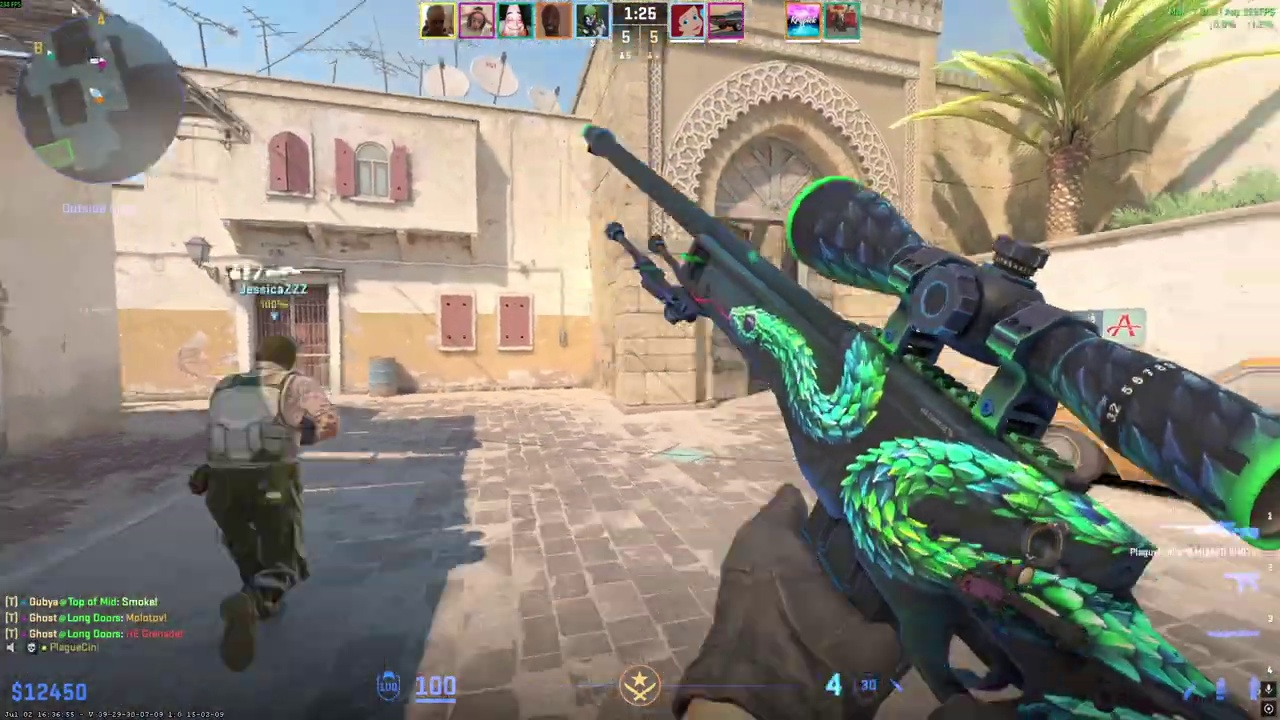Terrorist: (190, 335, 332, 674)
